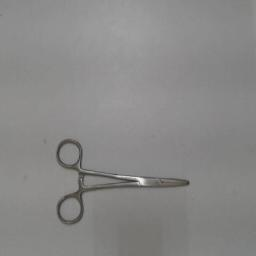Mayo Needle Holder: (50, 134, 196, 230)
